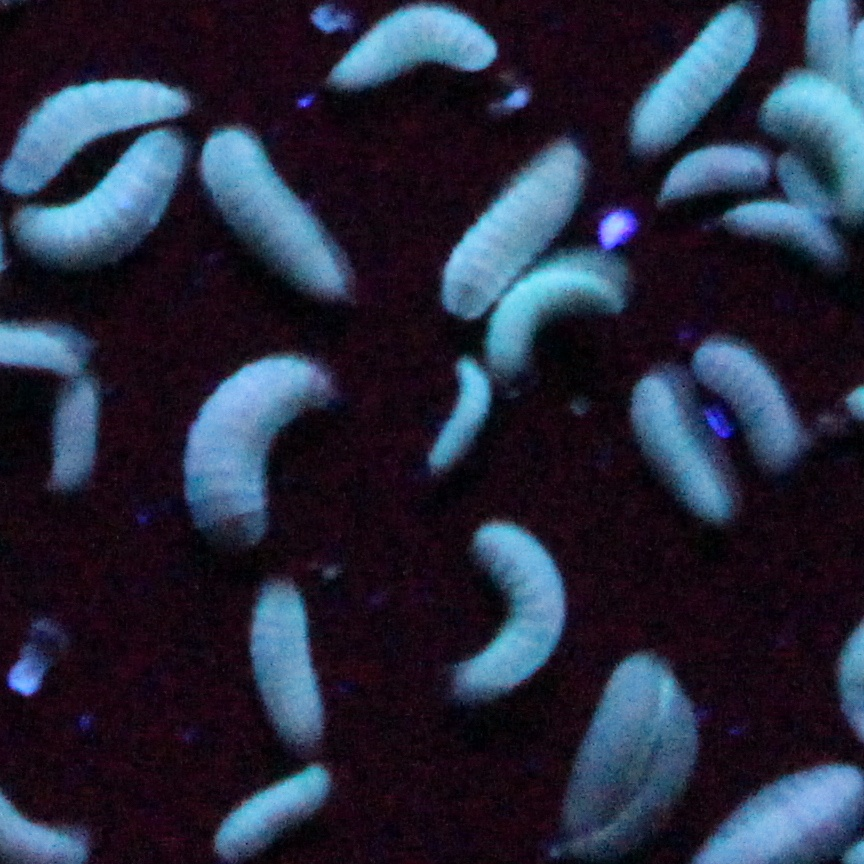larve: (189, 356, 321, 556), (202, 130, 342, 296), (442, 136, 574, 307), (446, 521, 564, 698), (30, 130, 182, 265), (8, 71, 187, 182), (629, 373, 735, 530), (637, 7, 753, 150), (487, 267, 626, 384), (570, 658, 657, 828), (246, 580, 333, 744), (335, 5, 489, 91), (703, 342, 803, 463), (212, 763, 326, 856), (729, 204, 836, 268), (423, 360, 487, 467), (45, 376, 104, 488), (658, 144, 765, 204)
